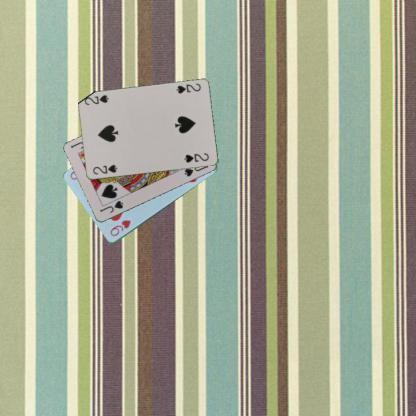2s: (173, 80, 202, 96), (90, 162, 119, 176)
9h: (107, 218, 132, 238)
Js: (97, 198, 124, 214)
